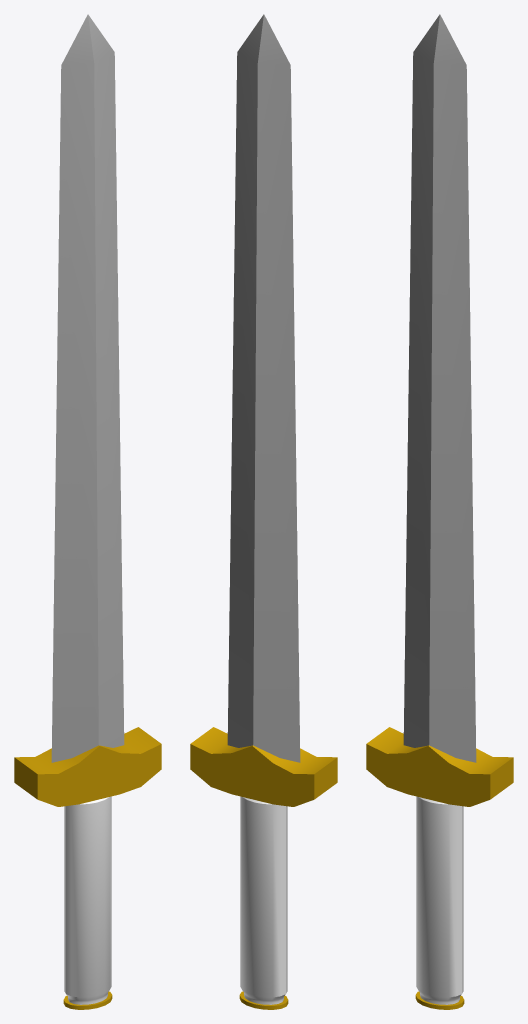
File: Sword.fbx
The picture shows the model from 3 angles, left to right: view 1: azimuth 30°, elevation 25°; view 2: azimuth 150°, elevation 25°; view 3: azimuth 330°, elevation 25°; orthographic projection.
Visible parts, largest first — view 1: Jian; view 2: Jian; view 3: Jian.
Boxes of the visible parts, <box> form: Jian: <box>14,14,161,1009</box>; Jian: <box>190,14,337,1009</box>; Jian: <box>366,14,513,1009</box>.
Bounding box in the file's own units: 20.17 × 153 × 6.54.
